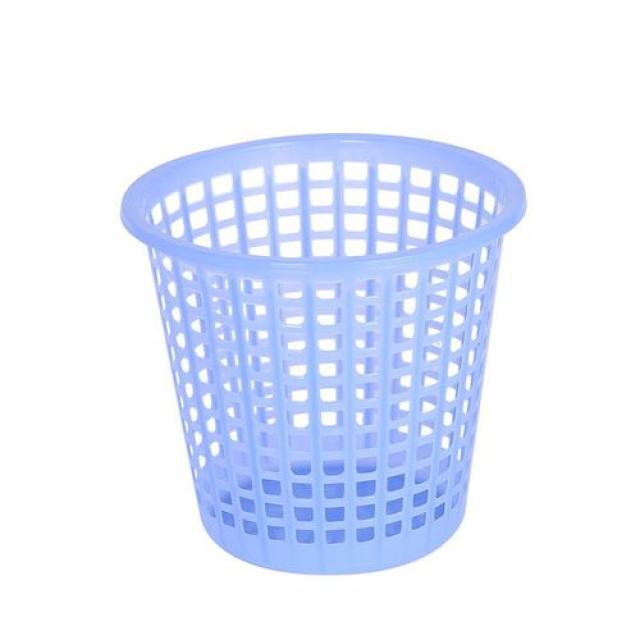dustbin: (115, 129, 533, 584)
